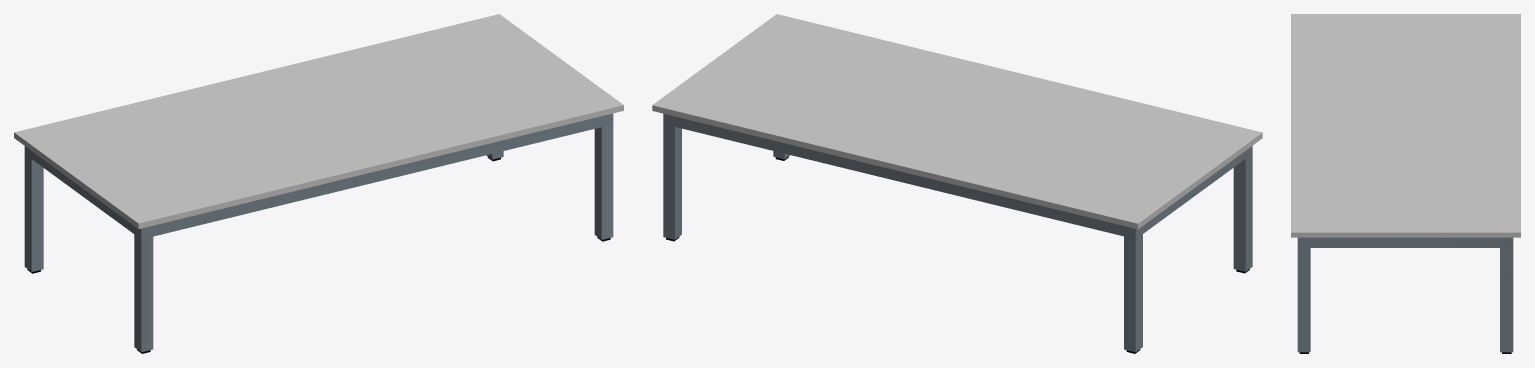
File: Tisch.fbx
3 renders of one model, left to right at view 1: azimuth 30°, elevation 25°; view 2: azimuth 150°, elevation 25°; view 3: azimuth 270°, elevation 25°, orthographic. The views are drawn at different scales.
Parts seen in each view (by area): view 1: Tischgestell; view 2: Tischgestell; view 3: Tischgestell.
Boxes of the visible parts, left/top/right/bottom form: Tischgestell: left=14, top=14, right=623, bottom=353; Tischgestell: left=652, top=14, right=1262, bottom=353; Tischgestell: left=1291, top=14, right=1520, bottom=353.
Bounding box in the file's own units: 360 × 96.21 × 160.
